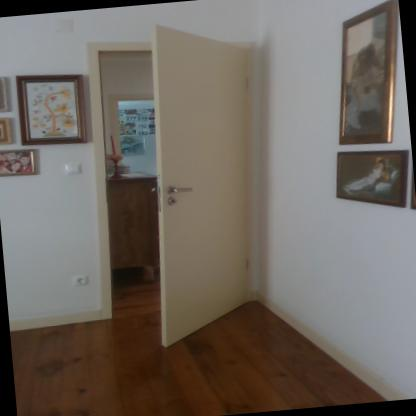semi: (75, 17, 292, 357)
